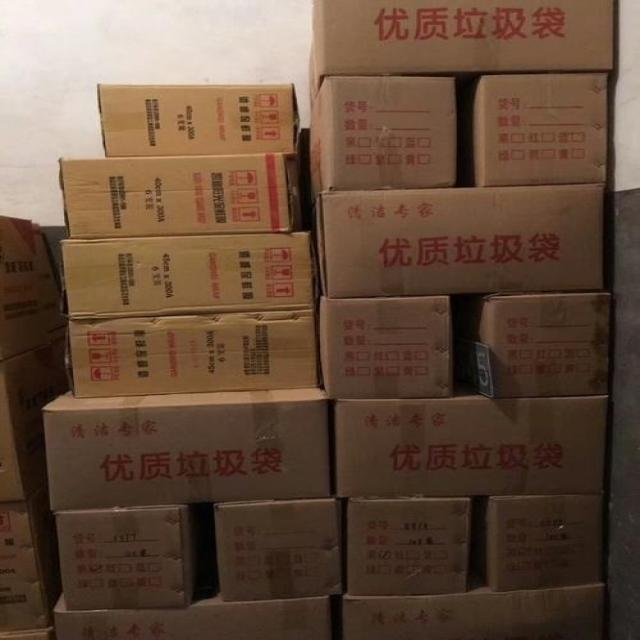box: (43, 387, 332, 508), (309, 183, 610, 299), (307, 0, 616, 102), (331, 397, 609, 498), (56, 557, 337, 638), (67, 309, 318, 394), (62, 231, 312, 316), (60, 154, 309, 232), (340, 568, 608, 638), (307, 77, 458, 201), (456, 290, 612, 396), (469, 75, 609, 185), (55, 506, 195, 609), (97, 86, 300, 156), (317, 296, 448, 399), (214, 501, 343, 600), (473, 494, 604, 591), (345, 499, 470, 597), (0, 338, 68, 505), (0, 216, 68, 364), (0, 505, 60, 634)
